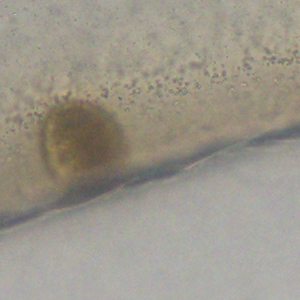Fasciola_hepatica_egg: (38, 100, 128, 192)
